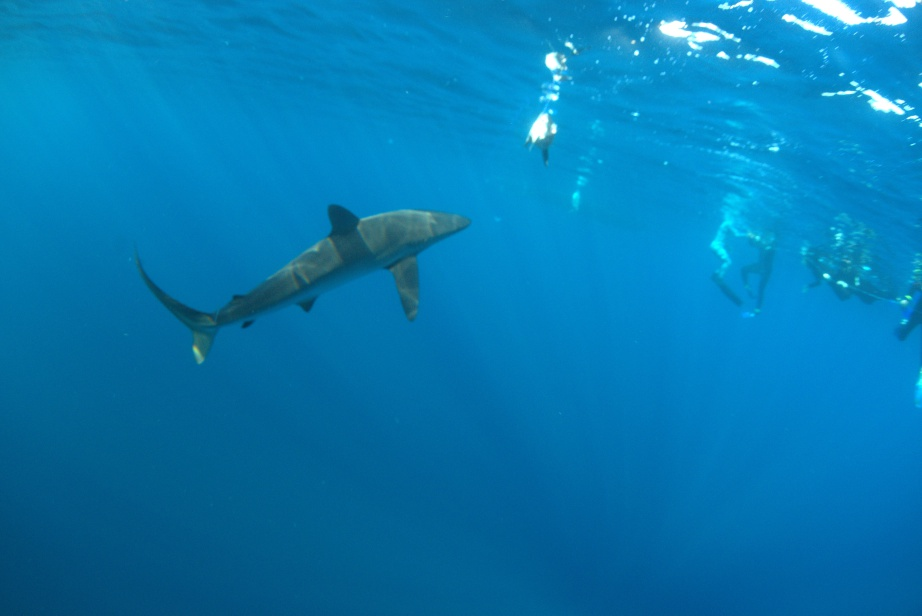Sedoso: (120, 186, 494, 378)
